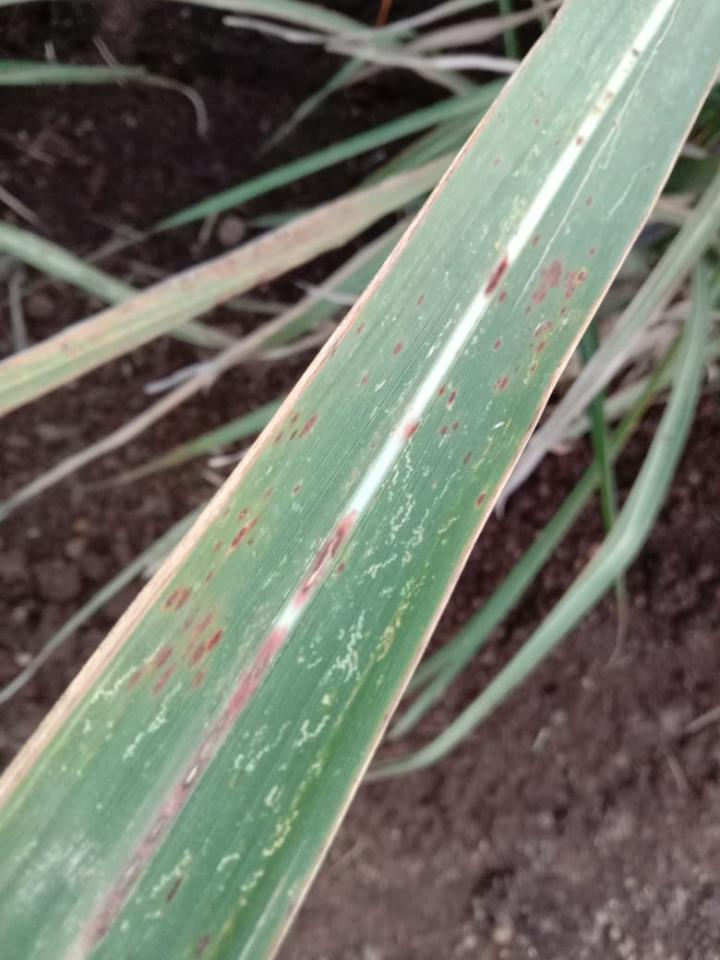RedRot: (75, 626, 289, 956), (293, 510, 356, 605), (482, 249, 510, 296), (402, 421, 421, 445)
Rust: (118, 476, 311, 702), (491, 254, 593, 394), (272, 408, 324, 449), (435, 382, 461, 436), (158, 870, 190, 913), (186, 930, 213, 959), (388, 335, 407, 360), (579, 189, 598, 213), (471, 488, 489, 510), (351, 318, 369, 338), (488, 156, 506, 174), (333, 560, 350, 578), (495, 287, 509, 308), (460, 447, 474, 467), (527, 234, 544, 250), (490, 335, 505, 353), (358, 372, 372, 388), (414, 293, 427, 310), (588, 245, 601, 259)
